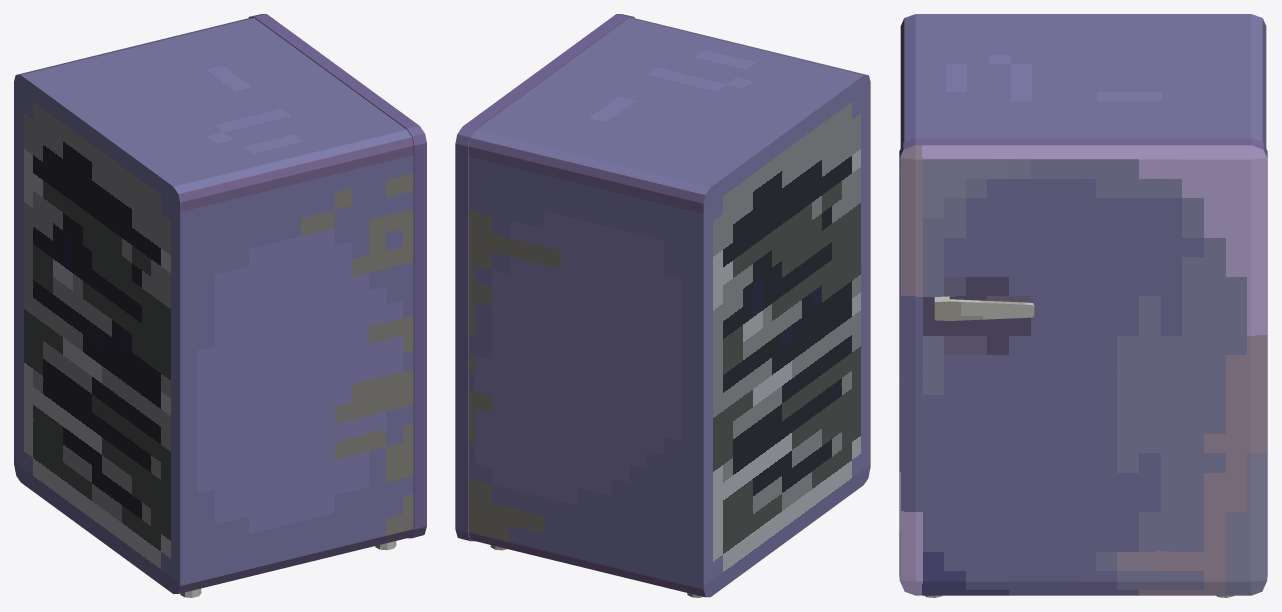
Rendered from fridge.fbx.
3 renders of one model, left to right at view 1: azimuth 30°, elevation 25°; view 2: azimuth 150°, elevation 25°; view 3: azimuth 270°, elevation 25°, orthographic. The views are drawn at different scales.
Visible parts, largest first — view 1: Cylinder.002; view 2: Cylinder.002; view 3: Cylinder.002.
Part boxes in pixels (box(x1,y1,x2,y2)): Cylinder.002: box(14, 14, 426, 597); Cylinder.002: box(455, 14, 870, 597); Cylinder.002: box(899, 14, 1267, 597).
Bounding box in the file's own units: 383 × 596 × 431.
Materials: 1 (1 with a texture image).
